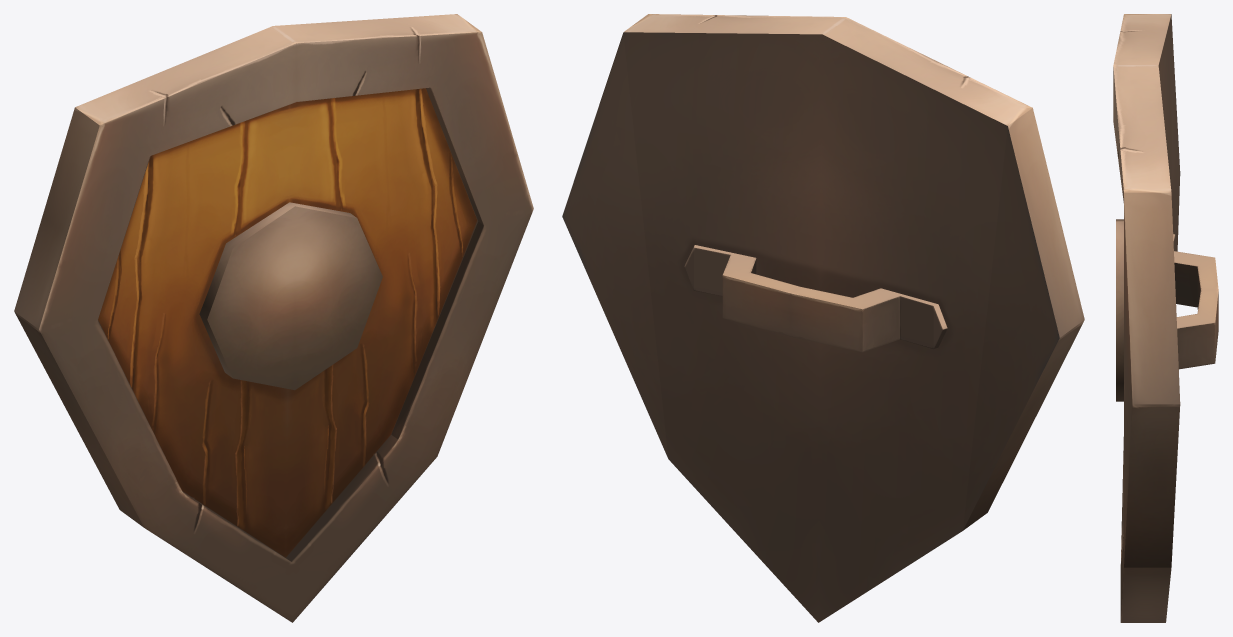
File: shield.FBX
3 views of the same model, side by side, from view 1: azimuth 30°, elevation 25°; view 2: azimuth 150°, elevation 25°; view 3: azimuth 270°, elevation 25° (orthographic). The views are drawn at different scales.
Parts seen in each view (by area): view 1: shield; view 2: shield; view 3: shield.
Boxes of the visible parts, left/top/right/bottom form: shield: left=14, top=14, right=533, bottom=622; shield: left=562, top=14, right=1084, bottom=622; shield: left=1113, top=14, right=1218, bottom=622.
Bounding box in the file's own units: 39.64 × 44.58 × 7.62.
